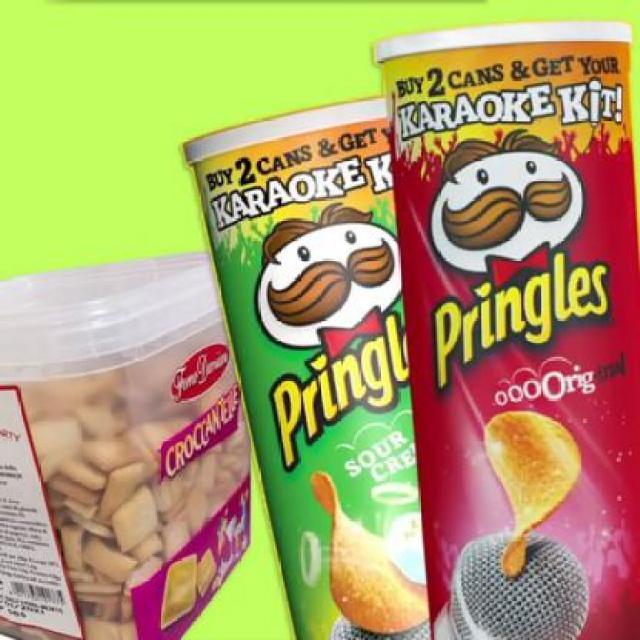Chips: (375, 27, 639, 639), (175, 82, 423, 636)
